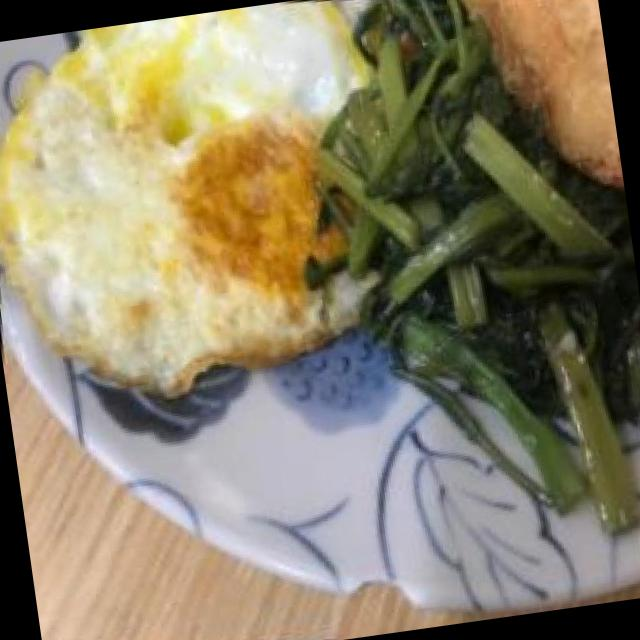fried_eggs: (0, 0, 407, 439)
water_spinach: (323, 0, 640, 478)
